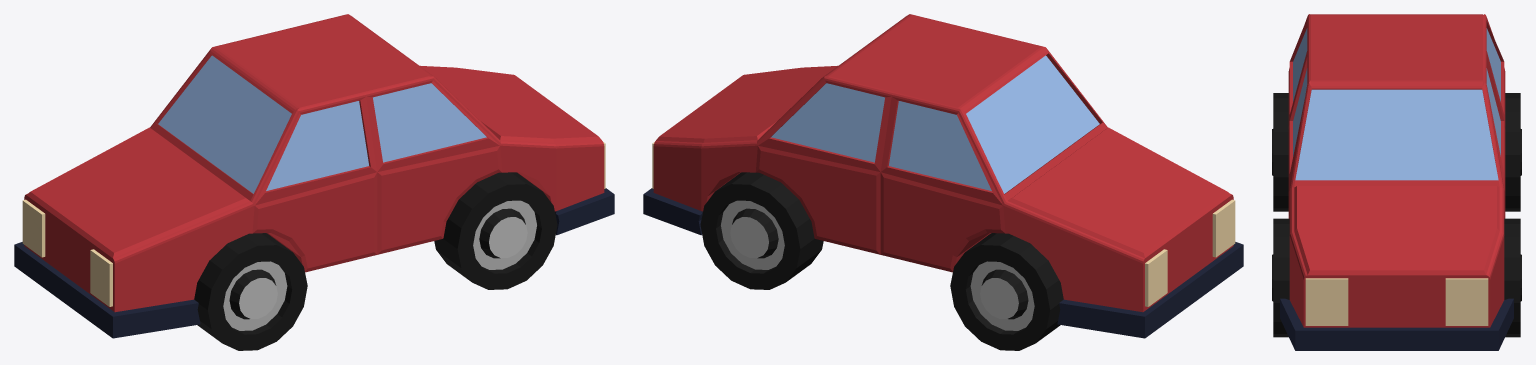
The model's file is car.fbx.
3 views of the same model, side by side, from view 1: azimuth 30°, elevation 25°; view 2: azimuth 150°, elevation 25°; view 3: azimuth 270°, elevation 25° (orthographic). The views are drawn at different scales.
Visible parts, largest first — view 1: Cube, Cylinder.001; view 2: Cube, Cylinder.001; view 3: Cube, Cylinder.001.
Part boxes in pixels (bbox=[...]): Cube: bbox=[14, 14, 614, 338]; Cylinder.001: bbox=[194, 172, 557, 350]; Cube: bbox=[643, 14, 1243, 338]; Cylinder.001: bbox=[700, 172, 1063, 350]; Cube: bbox=[1280, 14, 1513, 350]; Cylinder.001: bbox=[1272, 93, 1521, 337].
Bounding box in the file's own units: 402 × 164 × 168.
